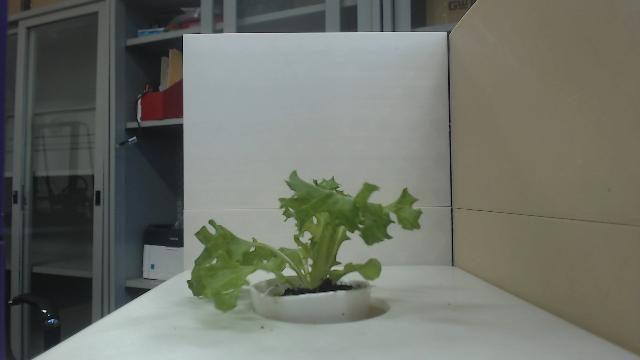Vegetative Stage: (186, 168, 424, 314)
